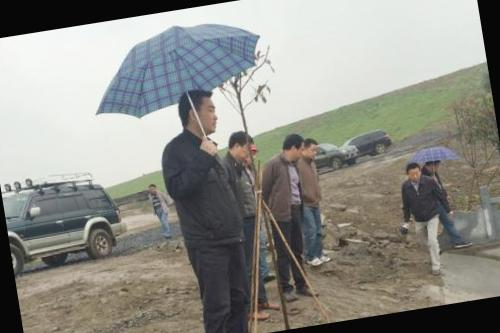no_helmet: (177, 76, 224, 142), (222, 124, 256, 168), (275, 130, 308, 168), (403, 159, 426, 187), (301, 136, 322, 162), (424, 154, 444, 174), (145, 180, 158, 194)
